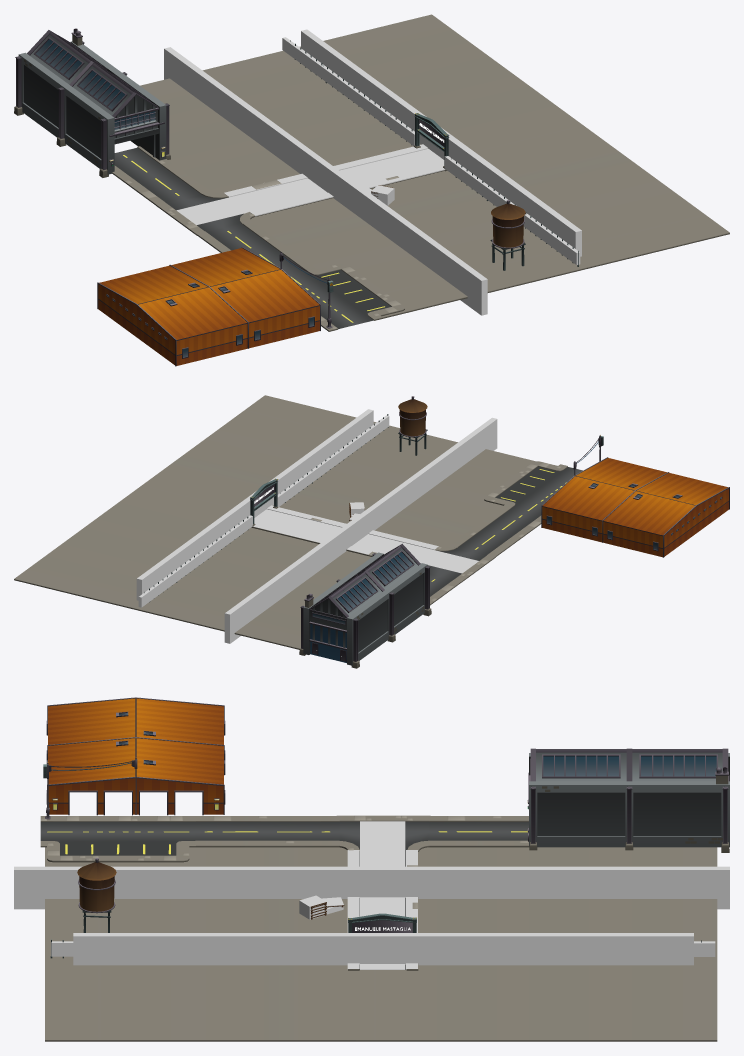
Rendered from factory.glb.
3 renders of one model, top to bottom at view 1: azimuth 30°, elevation 25°; view 2: azimuth 150°, elevation 25°; view 3: azimuth 270°, elevation 25°, orthographic. The views are drawn at different scales.
Parts seen in each view (by area): view 1: Pavement_1A_4x4.001Z1, Warehouse_2AZ1, Warehouse_2Z1, Road_1A_+4, Zone2, Zone1, road_impostor_cube, wall_impostor_cube-_01, wall_impostor_cube_1, Water_Tank_1AZ1, road_impostor_cube.001, road_impostor_cube.002; view 2: Pavement_1A_4x4.001Z1, Warehouse_2AZ1, Warehouse_2Z1, Zone2, Road_1A_+4, Zone1, road_impostor_cube, wall_impostor_cube-_01, wall_impostor_cube_1, Water_Tank_1AZ1, road_impostor_cube.001, road_impostor_cube.002; view 3: Pavement_1A_4x4.001Z1, Zone2, Zone1, Warehouse_2Z1, Warehouse_2AZ1, Road_1A_+4, road_impostor_cube, Water_Tank_1AZ1, entry_billborad_Z1, road_impostor_cube.001.
Part boxes in pixels (x1,y1,x2,y2): Pavement_1A_4x4.001Z1: [131, 14, 729, 318]; Warehouse_2AZ1: [97, 247, 333, 366]; Warehouse_2Z1: [14, 28, 170, 177]; Road_1A_+4: [112, 146, 444, 331]; Zone2: [164, 47, 487, 315]; Zone1: [301, 29, 581, 256]; road_impostor_cube: [176, 149, 444, 225]; wall_impostor_cube-_01: [282, 37, 414, 145]; wall_impostor_cube_1: [444, 156, 580, 264]; Water_Tank_1AZ1: [490, 200, 525, 270]; road_impostor_cube.001: [250, 164, 445, 216]; road_impostor_cube.002: [224, 144, 428, 197]; Pavement_1A_4x4.001Z1: [14, 395, 534, 649]; Warehouse_2AZ1: [541, 435, 729, 557]; Warehouse_2Z1: [299, 543, 431, 668]; Zone2: [224, 417, 497, 643]; Road_1A_+4: [251, 461, 582, 605]; Zone1: [136, 409, 373, 600]; road_impostor_cube: [254, 509, 478, 573]; wall_impostor_cube-_01: [138, 515, 252, 607]; wall_impostor_cube_1: [277, 415, 389, 507]; Water_Tank_1AZ1: [398, 396, 427, 455]; road_impostor_cube.001: [267, 505, 438, 549]; road_impostor_cube.002: [253, 522, 377, 554]; Pavement_1A_4x4.001Z1: [45, 847, 717, 1041]; Zone2: [14, 866, 729, 909]; Zone1: [73, 933, 693, 965]; Warehouse_2Z1: [527, 748, 729, 852]; Warehouse_2AZ1: [43, 697, 225, 819]; Road_1A_+4: [40, 815, 528, 970]; road_impostor_cube: [360, 821, 405, 969]; Water_Tank_1AZ1: [77, 858, 116, 932]; entry_billborad_Z1: [352, 920, 412, 932]; road_impostor_cube.001: [347, 850, 359, 969].
Bounding box in the file's own units: 123 × 17.51 × 122.
Materials: 18 (17 with a texture image).
